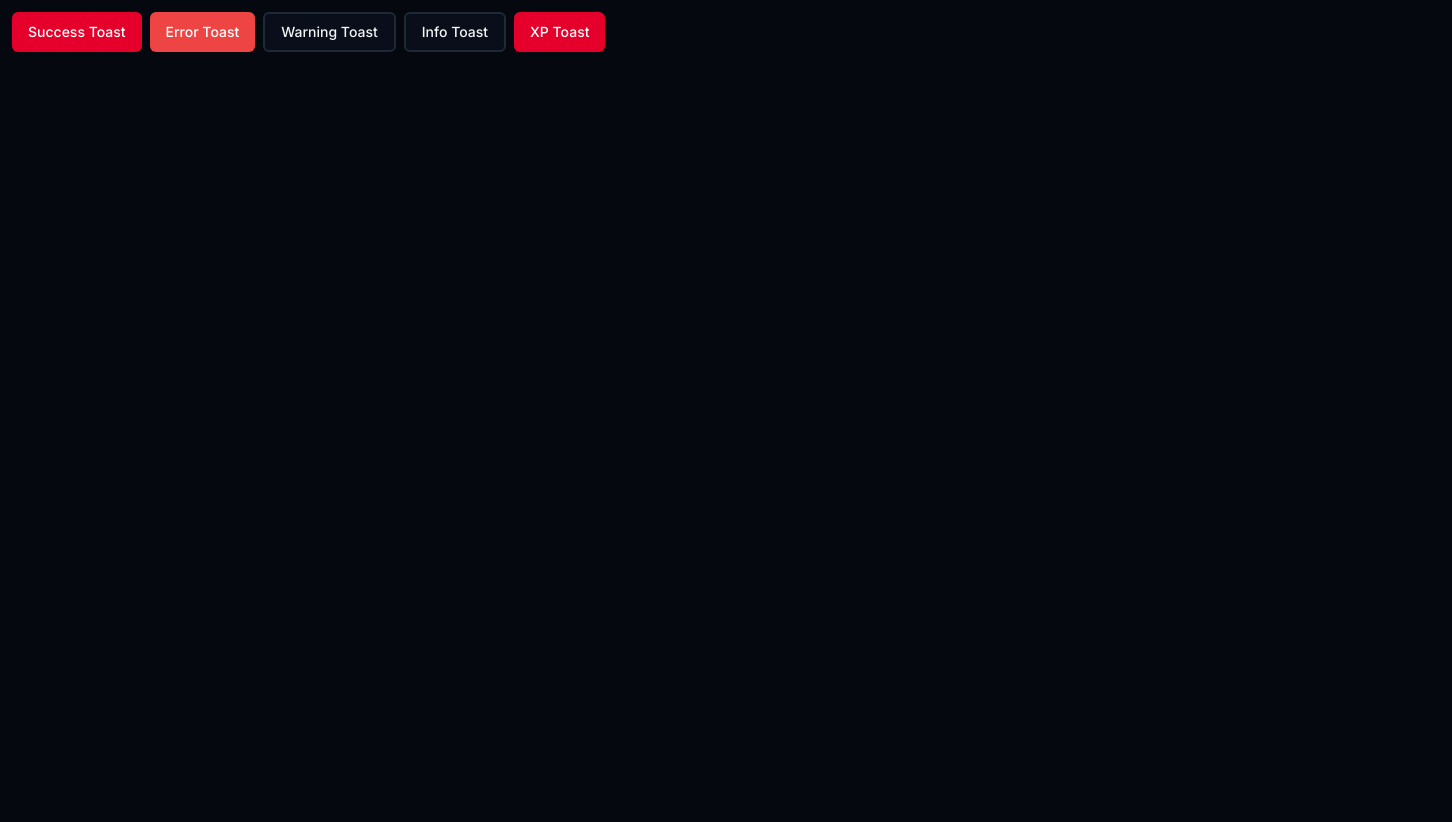
Examples › should show error toast when button clicked
Click the button "Error Toast" at [202, 32], box [150,12,255,52]
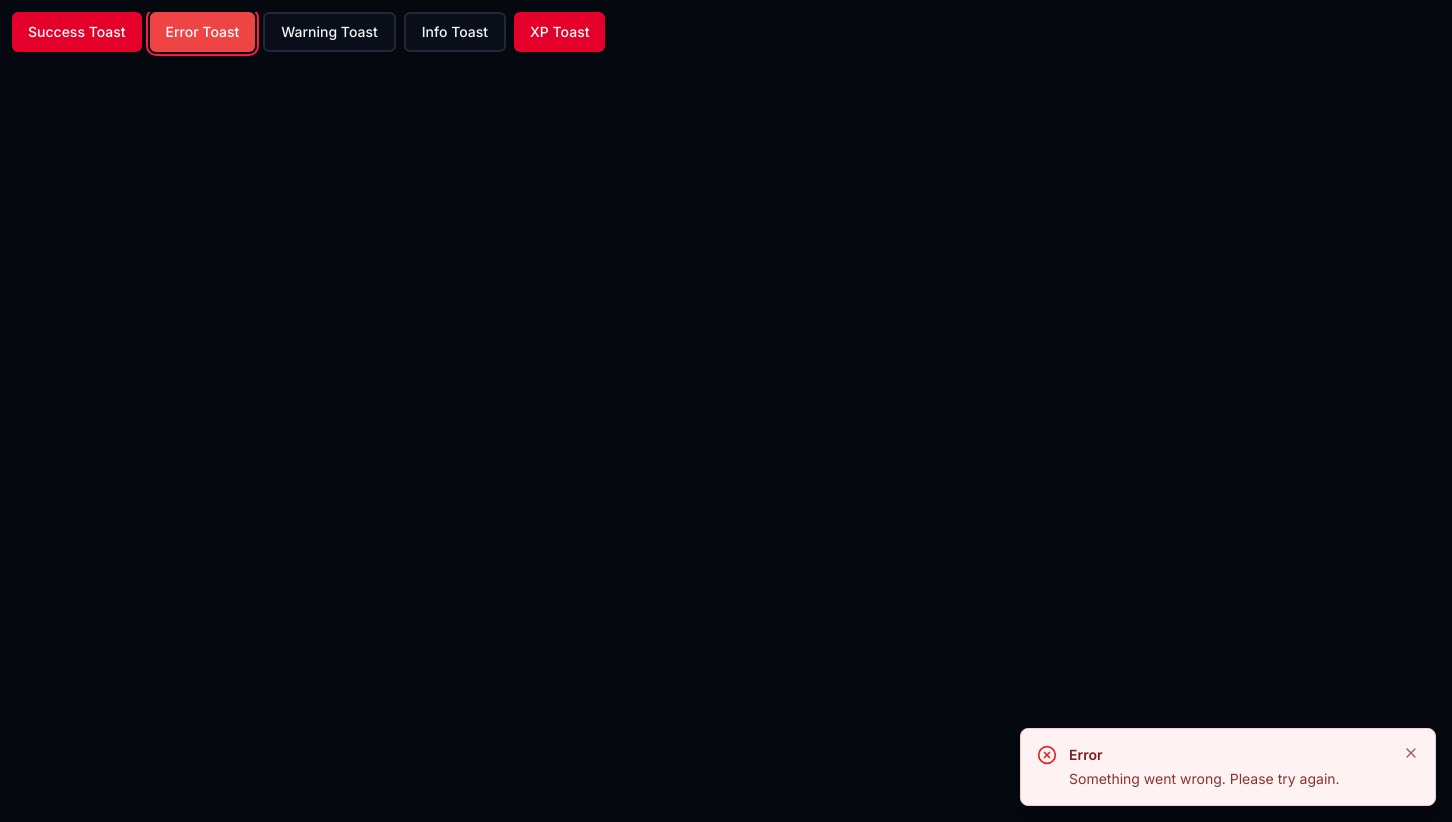
Expected: the text "Error" is shown, [1069,746,1102,763]
